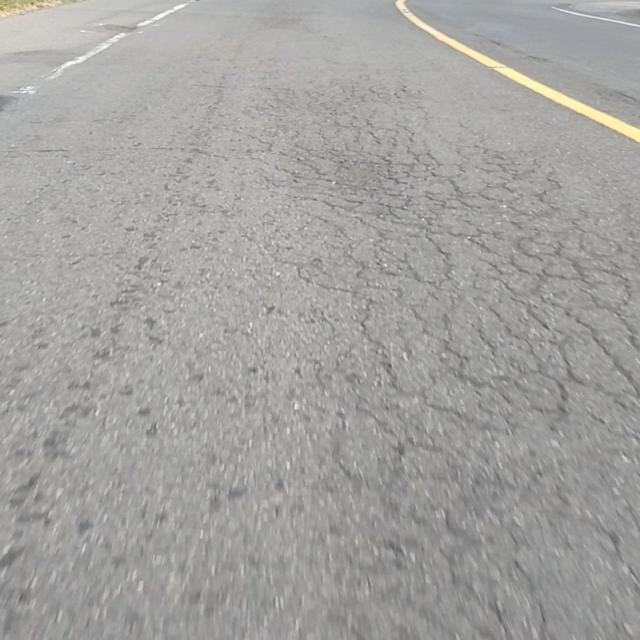Retak Buaya: (257, 95, 640, 434)
